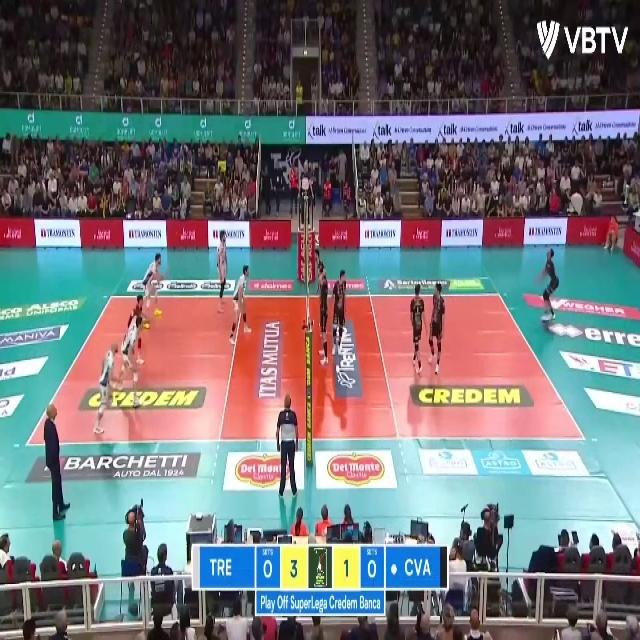volleyball court: (29, 288, 586, 445)
